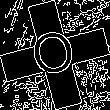O_S: (28, 25, 82, 85)
